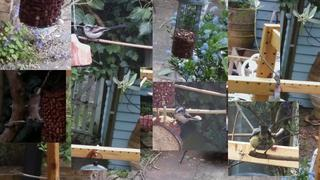blue tit: (249, 125, 275, 159)
long tailed tit: (82, 24, 129, 42), (171, 106, 202, 127)
mouse: (26, 94, 42, 123)
